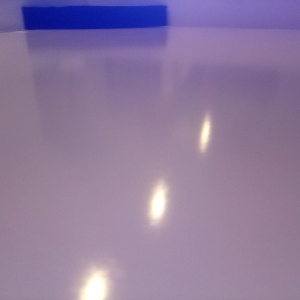zone: (22, 5, 167, 29)
